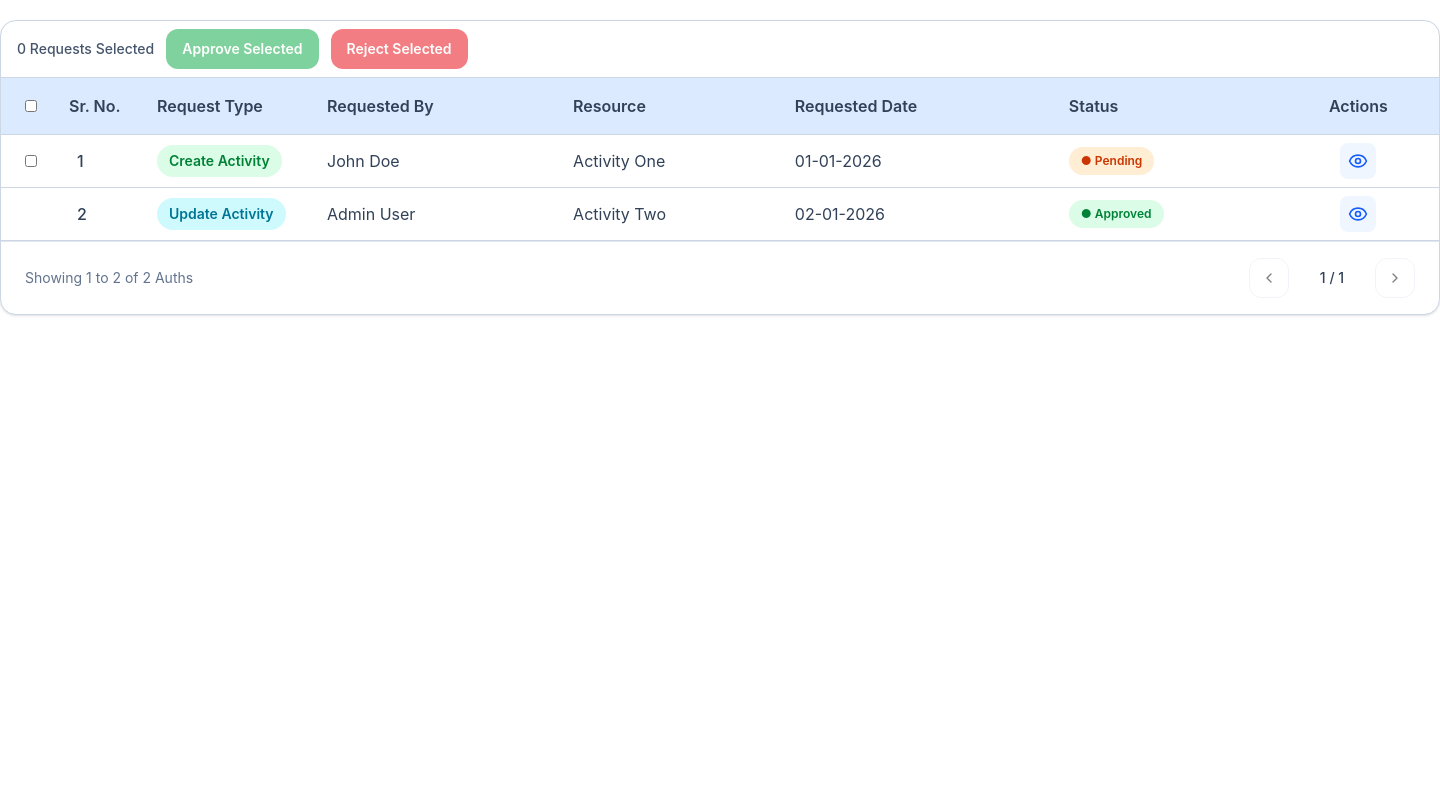
Test: AuthorizationTable › opens reject modal
Click the checkbox in the row of "Create Activity" at (31, 161), box top-left (25, 155), bottom-right (37, 167)
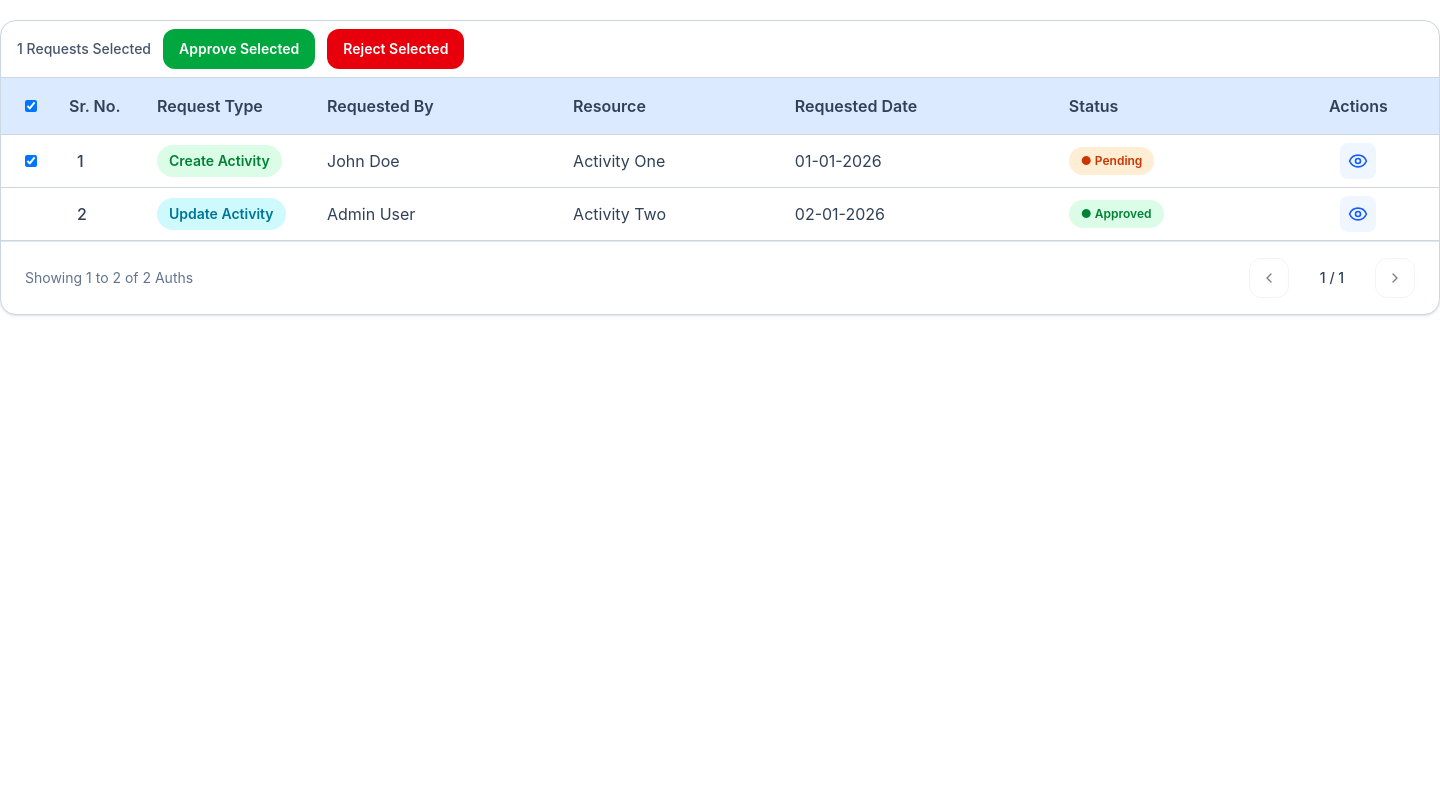
Click the button "Reject Selected" at (396, 49), box top-left (327, 29), bottom-right (464, 69)
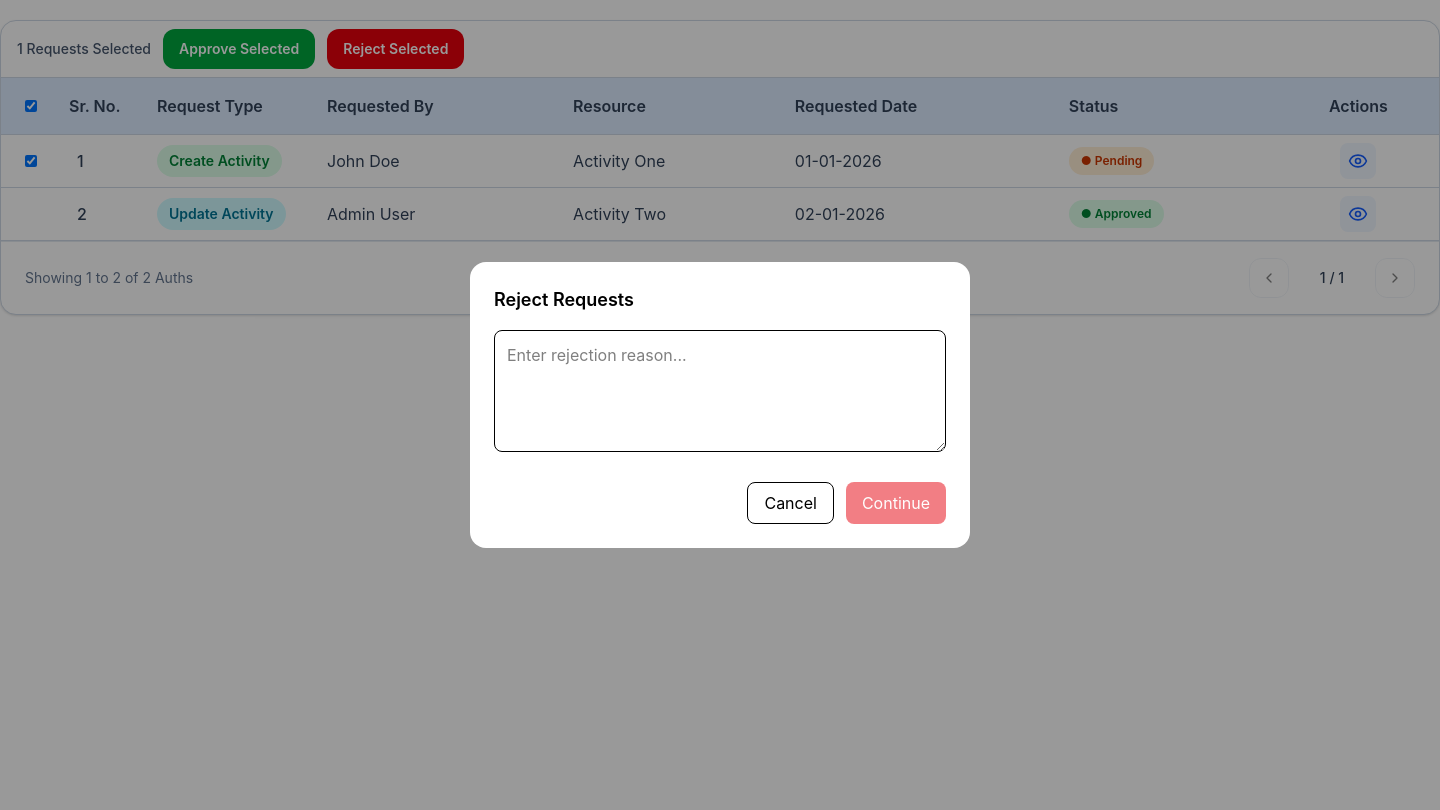
Now the text box with placeholder "Enter rejection reason..." is shown, box top-left (494, 330), bottom-right (946, 452)
